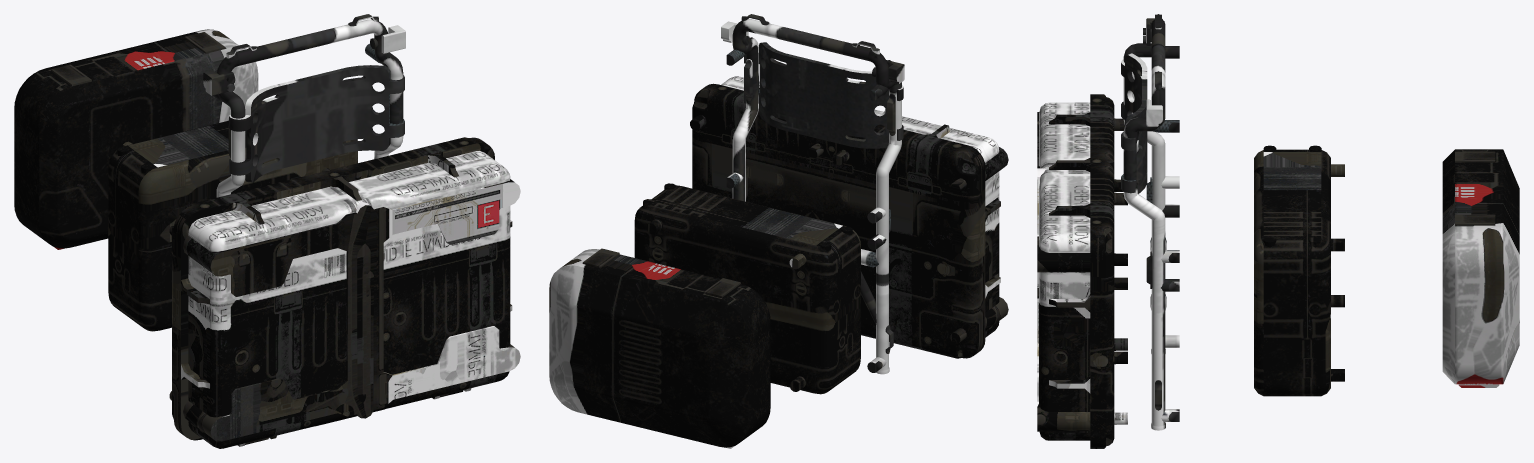
Rendered from ds-weighted-loadout.glb.
3 views of the same model, side by side, from view 1: azimuth 30°, elevation 25°; view 2: azimuth 150°, elevation 25°; view 3: azimuth 270°, elevation 25° (orthographic). The views are drawn at different scales.
Visible parts, largest first — view 1: cargo_medium, cargo_slim, cargo_rack, cargo_small; view 2: cargo_medium, cargo_slim, cargo_small, cargo_rack; view 3: cargo_medium, cargo_small, cargo_slim, cargo_rack.
Part boxes in pixels (<box>): cargo_medium: <box>169,137,520,448</box>; cargo_slim: <box>14,29,258,249</box>; cargo_rack: <box>203,14,405,197</box>; cargo_small: <box>108,120,357,331</box>; cargo_medium: <box>690,76,1008,358</box>; cargo_slim: <box>549,248,770,448</box>; cargo_small: <box>634,183,860,394</box>; cargo_rack: <box>721,14,904,374</box>; cargo_medium: <box>1037,94,1127,448</box>; cargo_small: <box>1254,145,1344,396</box>; cargo_slim: <box>1442,149,1519,387</box>; cargo_rack: <box>1121,14,1179,430</box>.
Size of the model in its own units: 0.5477 by 0.595 by 0.7567.
4 materials, 4 textured.
